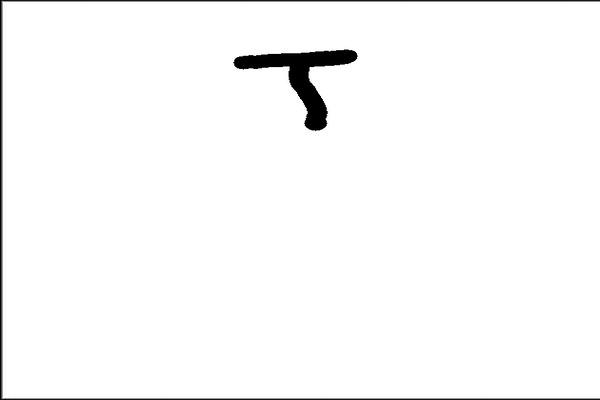T: (228, 42, 365, 133)
